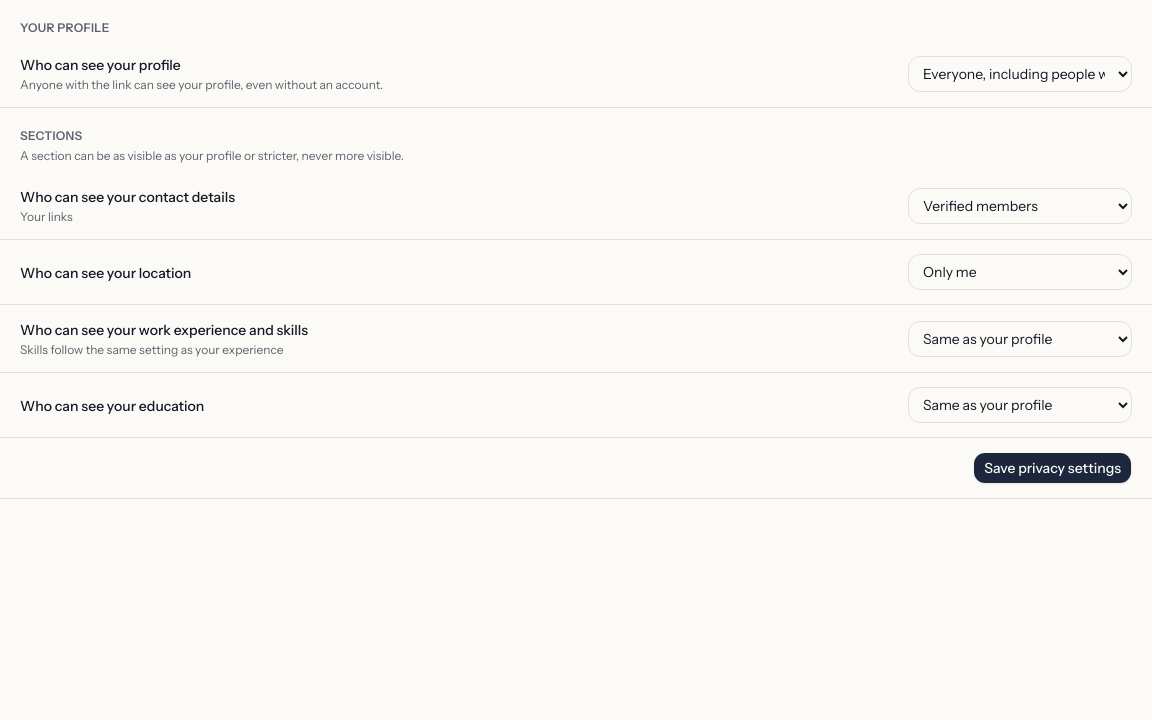
Scenario: PrivacyForm › also resets a now-looser contact override, independently of location
Select "Verified members" in the dropdown labelled "Who can see your profile": (1020, 74) [908,56,1132,92]
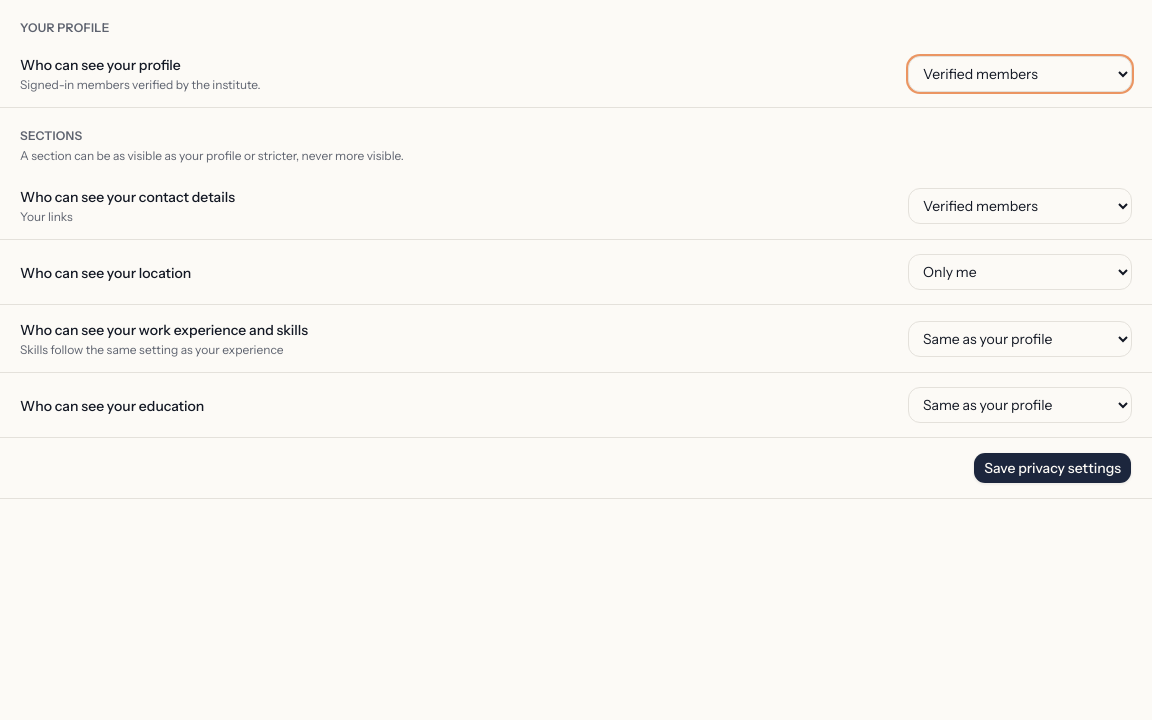
Expected: the dropdown labelled "Who can see your location" shows "Only me", [908,254,1132,290]
Expected: the dropdown labelled "Who can see your contact details" shows "Verified members", [908,188,1132,224]
Select "Only me" in the dropdown labelled "Who can see your profile": (1020, 74) [908,56,1132,92]
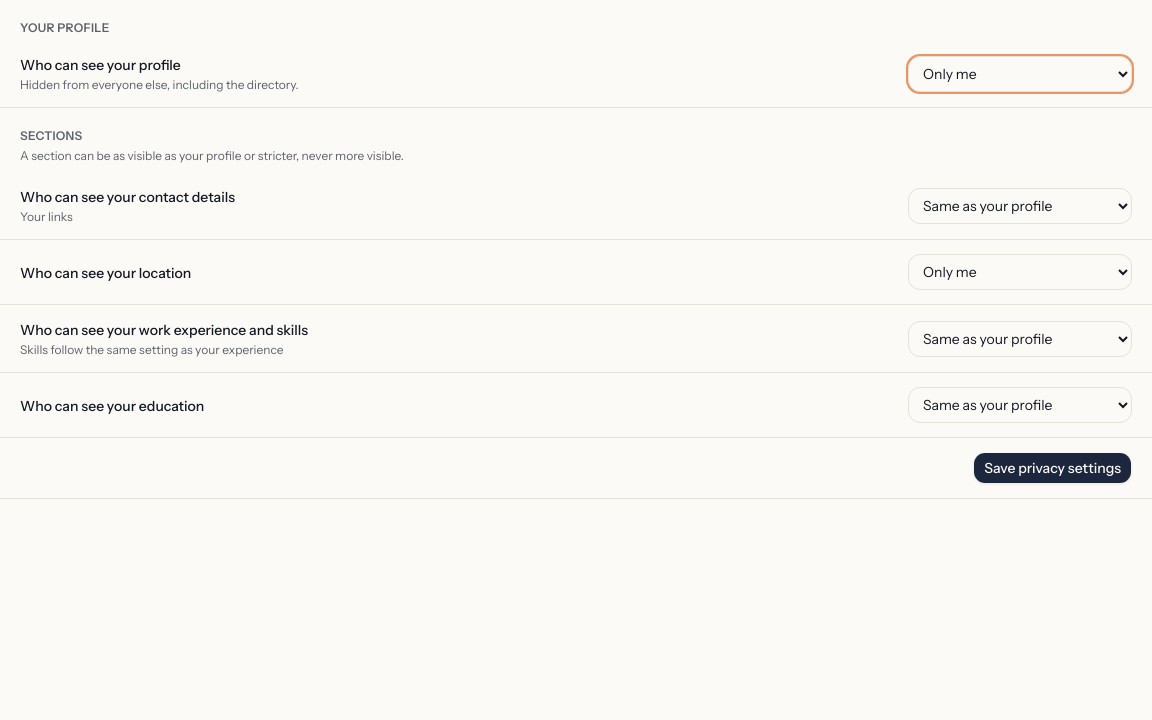
Now the dropdown labelled "Who can see your contact details" shows "Same as your profile", box [908,188,1132,224]
